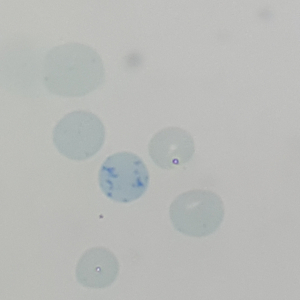aggregate reticulocyte: (96, 149, 151, 205)
erythrocyte: (166, 187, 227, 239), (146, 125, 197, 172), (73, 246, 122, 292)
punctate reticulocyte: (40, 41, 107, 99), (50, 108, 108, 163)
